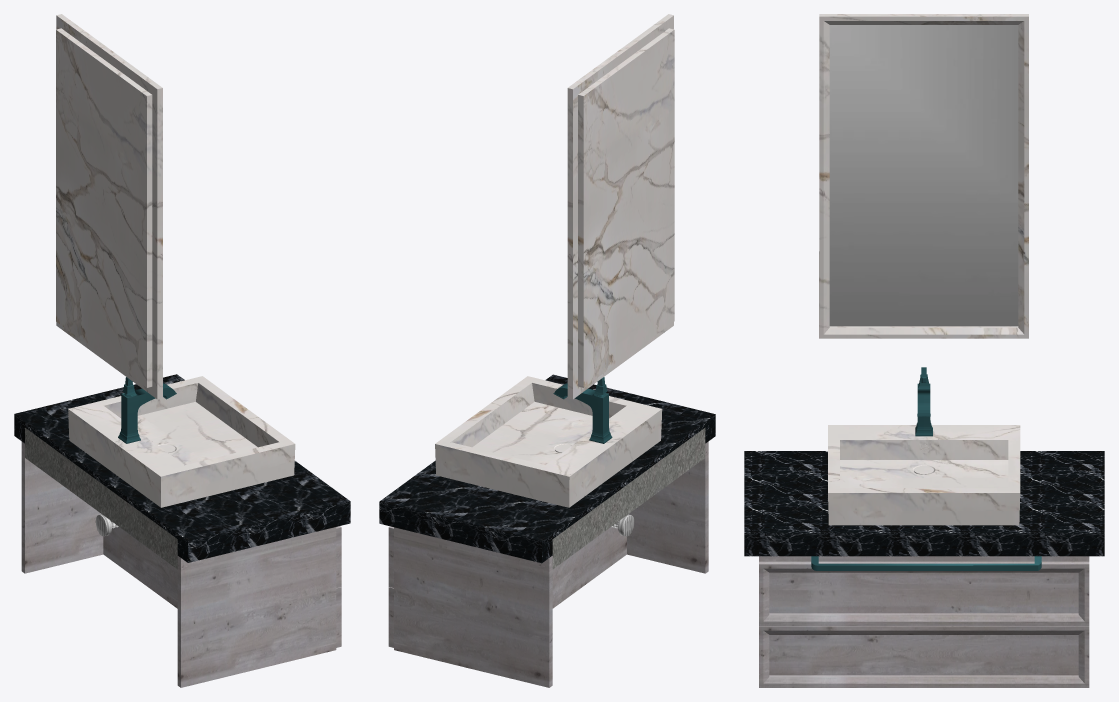
The picture shows the model from 3 angles, left to right: view 1: azimuth 30°, elevation 25°; view 2: azimuth 150°, elevation 25°; view 3: azimuth 270°, elevation 25°; orthographic projection. The views are drawn at different scales.
Parts seen in each view (by area): view 1: Mesh6_MARMORE_DAINO_REALE_0, Mesh1_CARVALHO_CINZA_BEGE_0, Mesh4_hanstone_tiffany_grey_0, Mesh3_Wood_Plywood_Knots_0, Mesh8_Steel_Brushed_Stainless_0; view 2: Mesh6_MARMORE_DAINO_REALE_0, Mesh1_CARVALHO_CINZA_BEGE_0, Mesh4_hanstone_tiffany_grey_0, Mesh3_Wood_Plywood_Knots_0, Mesh8_Steel_Brushed_Stainless_0; view 3: Mesh6_Mirror_01_0, Mesh1_CARVALHO_CINZA_BEGE_0, Mesh6_MARMORE_DAINO_REALE_0, Mesh4_hanstone_tiffany_grey_0, Mesh8_Steel_Brushed_Stainless_0.
Boxes of the visible parts, x1,y1,x2,y2 form: Mesh6_MARMORE_DAINO_REALE_0: (56,14,295,507); Mesh1_CARVALHO_CINZA_BEGE_0: (21,441,341,687); Mesh4_hanstone_tiffany_grey_0: (14,374,350,562); Mesh3_Wood_Plywood_Knots_0: (25,428,177,569); Mesh8_Steel_Brushed_Stainless_0: (118,377,176,443); Mesh6_MARMORE_DAINO_REALE_0: (435,14,674,507); Mesh1_CARVALHO_CINZA_BEGE_0: (388,441,708,687); Mesh4_hanstone_tiffany_grey_0: (379,374,715,563); Mesh3_Wood_Plywood_Knots_0: (552,428,705,569); Mesh8_Steel_Brushed_Stainless_0: (553,377,612,443); Mesh6_Mirror_01_0: (829,25,1018,326); Mesh1_CARVALHO_CINZA_BEGE_0: (759,556,1089,687); Mesh6_MARMORE_DAINO_REALE_0: (819,14,1028,525); Mesh4_hanstone_tiffany_grey_0: (744,451,1104,556); Mesh8_Steel_Brushed_Stainless_0: (811,367,1041,570).
Bounding box in the file's own units: 6.16 × 19.13 × 10.46.
9 materials, 8 textured.
